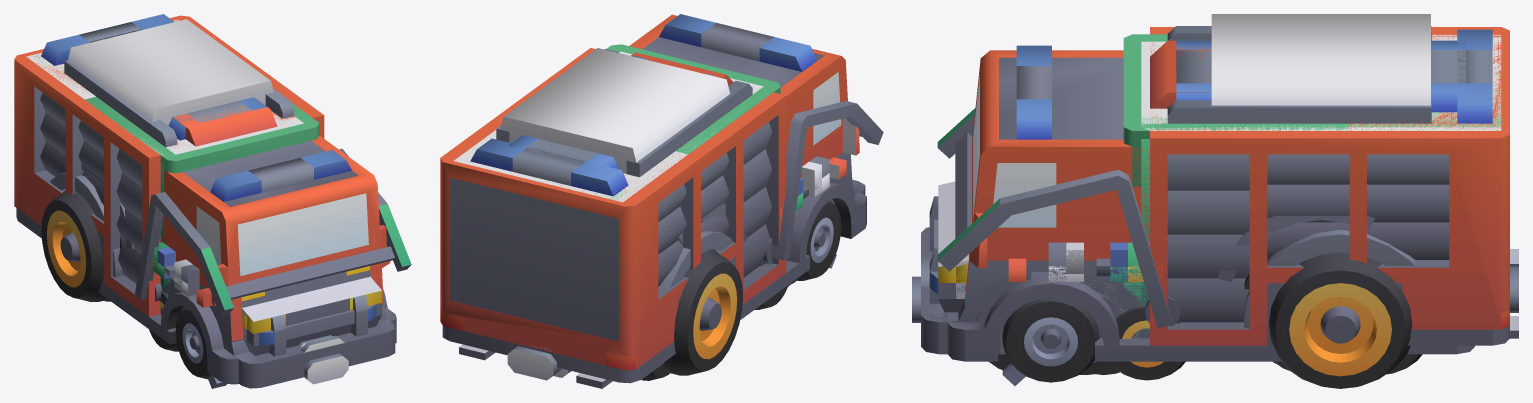
The model's file is cars.glb.
3 views of the same model, side by side, from view 1: azimuth 30°, elevation 25°; view 2: azimuth 150°, elevation 25°; view 3: azimuth 270°, elevation 25° (orthographic). The views are drawn at different scales.
Parts seen in each view (by area): view 1: body (×6), arm, wheel-back-right, grill, wheel-front-right; view 2: body (×5), wheel-back-right, arm, wheel-front-right; view 3: body (×10), wheel-back-left, arm, wheel-front-left (×2), grill, shovel.
Part boxes in pixels (left/top/right/bottom): body (×6): left=14, top=14, right=396, bottom=388; arm: left=135, top=148, right=411, bottom=314; wheel-back-right: left=41, top=190, right=106, bottom=302; grill: left=259, top=295, right=385, bottom=357; wheel-front-right: left=175, top=308, right=211, bottom=379; body (×5): left=440, top=14, right=866, bottom=388; wheel-back-right: left=660, top=249, right=742, bottom=375; arm: left=763, top=101, right=883, bottom=264; wheel-front-right: left=796, top=200, right=841, bottom=280; body (×10): left=912, top=14, right=1518, bottom=361; wheel-back-left: left=1269, top=252, right=1412, bottom=388; arm: left=937, top=108, right=1180, bottom=328; wheel-front-left (×2): left=1002, top=298, right=1185, bottom=382; grill: left=921, top=196, right=946, bottom=317; shovel: left=1002, top=272, right=1048, bottom=385.
Bounding box in the file's own units: 0.631 × 0.684 × 1.31.
Materials: 1 (1 with a texture image).
